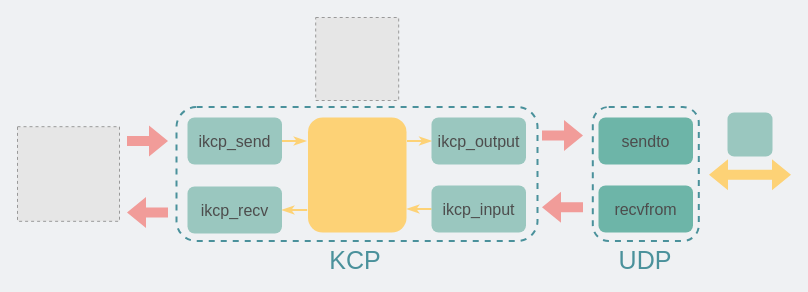
Some shapes in this 808 by 292 pixel diagram are drawn without their labels. Grey dashed boxes stand in for pictures. Here are the shapes that lost their labels. From the top down, the box of each, then its label:
(727, 112, 772, 156): data
(308, 117, 406, 232): 可靠性逻辑
